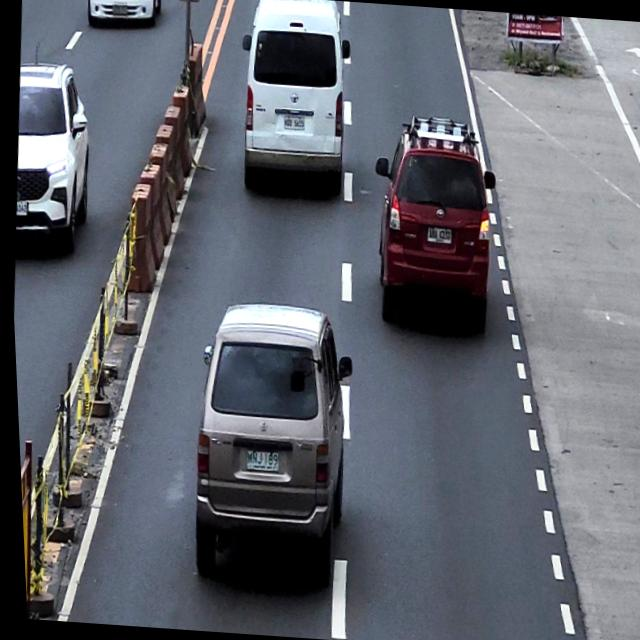Car: (182, 298, 361, 586), (360, 112, 505, 346), (229, 0, 361, 200), (6, 60, 99, 254), (85, 0, 165, 26)
License-Plate: (238, 448, 277, 474), (422, 224, 451, 246), (280, 114, 305, 132), (13, 198, 27, 218), (109, 2, 129, 16)
